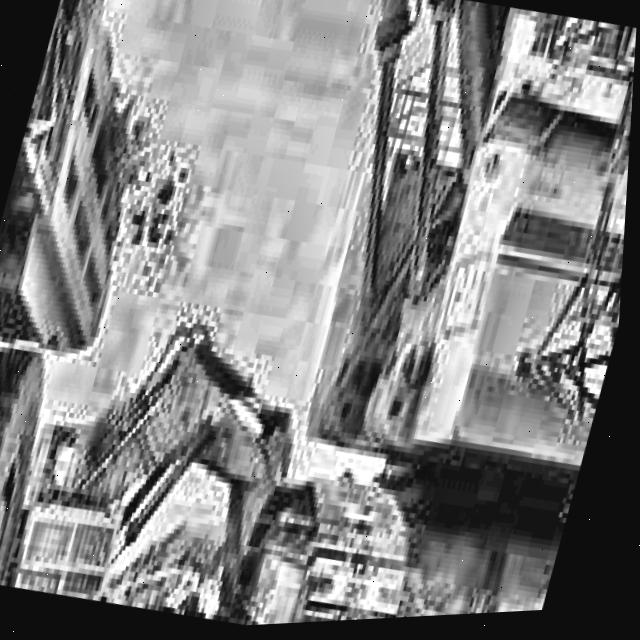dump_truck: (0, 0, 227, 599)
excavator: (123, 0, 640, 634), (0, 243, 384, 640)
